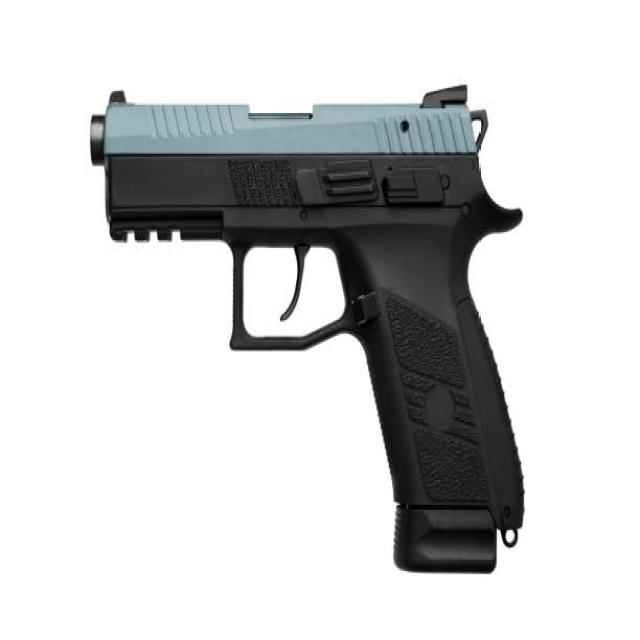pistol: (81, 73, 534, 592)
